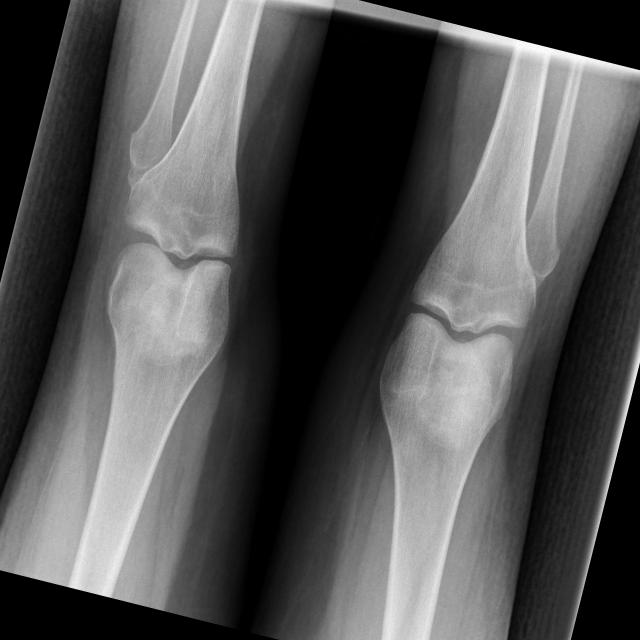Knee: (372, 248, 542, 432), (96, 180, 260, 352)
